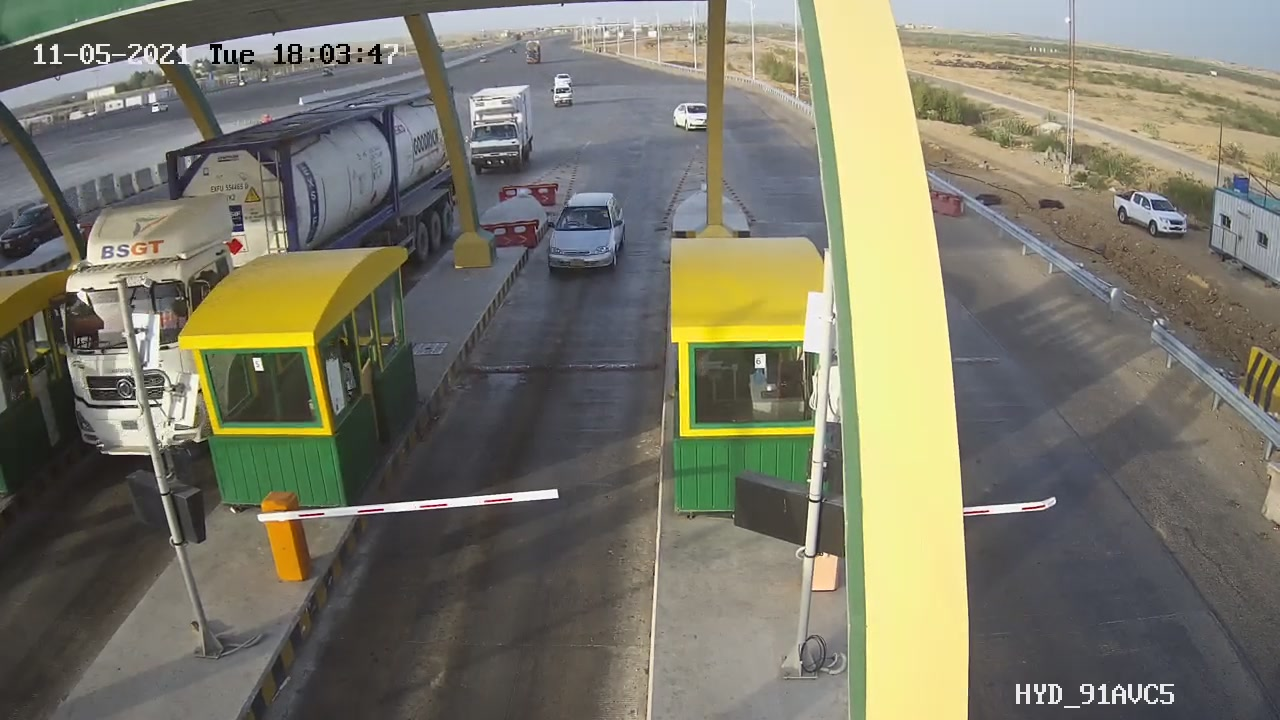F1: (518, 175, 652, 295)
